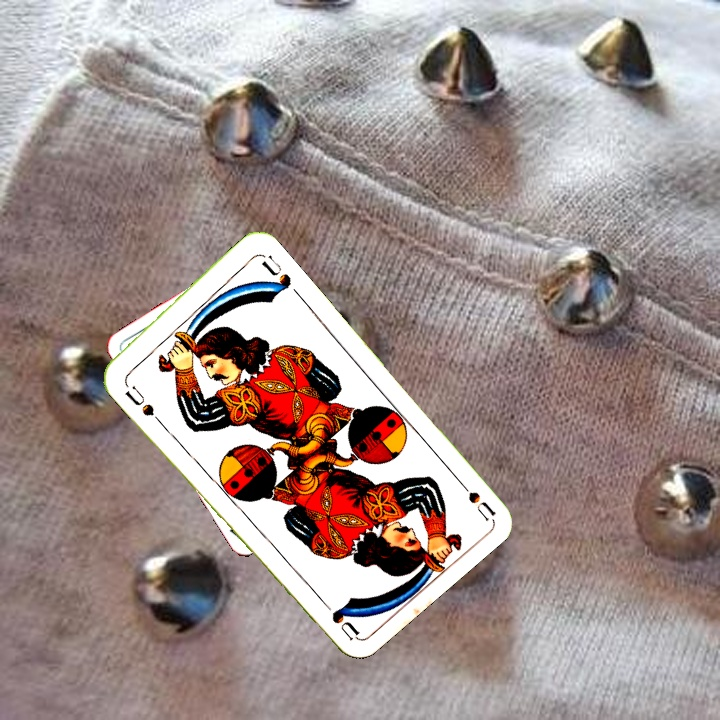SU: (449, 471, 497, 522), (121, 382, 157, 419)
